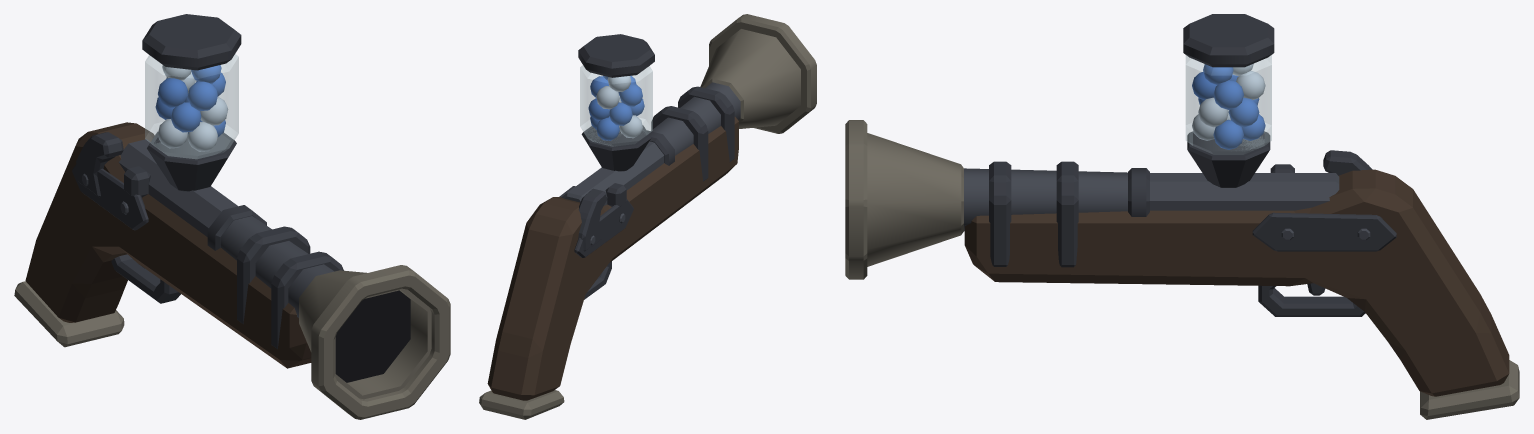
Rendered from w_marbles.glb.
3 renders of one model, left to right at view 1: azimuth 30°, elevation 25°; view 2: azimuth 150°, elevation 25°; view 3: azimuth 270°, elevation 25°, orthographic. The views are drawn at different scales.
Parts seen in each view (by area): view 1: stock_wzA__wood__p43352b, barrel_wzA__body__p6b675d, marbles_jar_wzN__jar__gd6eef640, barrel_wzB__frame__p444851, trim_wzN__black__p16171b, band_wzN__dark__p353840, lid_wzN__dark__p353840, lock_wzN__dark__p353840, funnel_wzN__dark__p353840, cap_wzN__body__p6b675d, guard_wzN__dark__p353840, marble_11_wzN__m1__p3d6fc4 (+5 smaller); view 2: stock_wzA__wood__p43352b, barrel_wzA__body__p6b675d, marbles_jar_wzN__jar__gd6eef640, barrel_wzB__frame__p444851, band_wzN__dark__p353840, lock_wzN__dark__p353840, lid_wzN__dark__p353840, funnel_wzN__dark__p353840, cap_wzN__body__p6b675d, marble_09_wzN__m2__pb8c8d8, marble_04_wzN__m1__p3d6fc4, marble_01_wzN__m1__p3d6fc4 (+2 smaller); view 3: stock_wzA__wood__p43352b, barrel_wzA__body__p6b675d, barrel_wzB__frame__p444851, marbles_jar_wzN__jar__gd6eef640, lock_wzN__dark__p353840, band_wzN__dark__p353840, lid_wzN__dark__p353840, funnel_wzN__dark__p353840, cap_wzN__body__p6b675d, guard_wzN__dark__p353840, marble_10_wzN__m1__p3d6fc4, marble_02_wzN__m1__p3d6fc4 (+2 smaller).
Boxes of the visible parts, x1,y1,x2,y2 form: stock_wzA__wood__p43352b: (25,122,311,368); barrel_wzA__body__p6b675d: (299,265,450,419); marbles_jar_wzN__jar__gd6eef640: (145,54,238,158); barrel_wzB__frame__p444851: (118,139,334,317); trim_wzN__black__p16171b: (335,290,410,382); band_wzN__dark__p353840: (207,205,343,348); lid_wzN__dark__p353840: (142,14,241,70); lock_wzN__dark__p353840: (72,132,150,268); funnel_wzN__dark__p353840: (147,132,236,191); cap_wzN__body__p6b675d: (14,281,124,347); guard_wzN__dark__p353840: (111,254,180,303); marble_11_wzN__m1__p3d6fc4: (187,81,217,111); stock_wzA__wood__p43352b: (487,116,738,400); barrel_wzA__body__p6b675d: (700,14,816,133); marbles_jar_wzN__jar__gd6eef640: (580,65,652,146); barrel_wzB__frame__p444851: (561,82,740,205); band_wzN__dark__p353840: (647,86,734,181); lock_wzN__dark__p353840: (559,183,633,257); lid_wzN__dark__p353840: (578,34,654,77); funnel_wzN__dark__p353840: (581,125,651,171); cap_wzN__body__p6b675d: (479,390,564,419); marble_09_wzN__m2__pb8c8d8: (596,86,619,109); marble_04_wzN__m1__p3d6fc4: (609,102,632,125); marble_01_wzN__m1__p3d6fc4: (596,117,619,140); stock_wzA__wood__p43352b: (964,169,1509,396); barrel_wzA__body__p6b675d: (845,120,963,279); barrel_wzB__frame__p444851: (964,168,1339,231); marbles_jar_wzN__jar__gd6eef640: (1186,55,1271,154); lock_wzN__dark__p353840: (1252,150,1396,295); band_wzN__dark__p353840: (989,161,1149,267); lid_wzN__dark__p353840: (1183,14,1274,67); funnel_wzN__dark__p353840: (1187,131,1270,187); cap_wzN__body__p6b675d: (1420,360,1519,419); guard_wzN__dark__p353840: (1258,285,1365,316); marble_10_wzN__m1__p3d6fc4: (1213,80,1243,109); marble_02_wzN__m1__p3d6fc4: (1213,119,1243,149).
Size of the model in its own units: 0.122 by 0.3379 by 0.5487.
